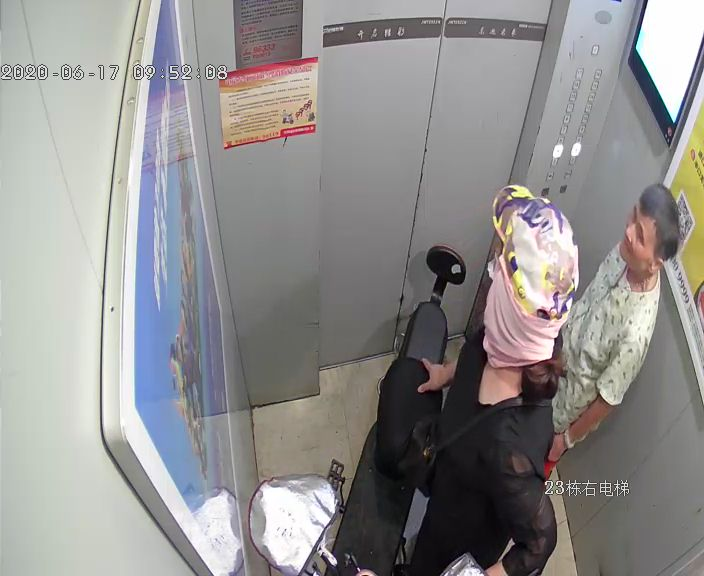Electric-bicycle: (253, 242, 467, 576)
